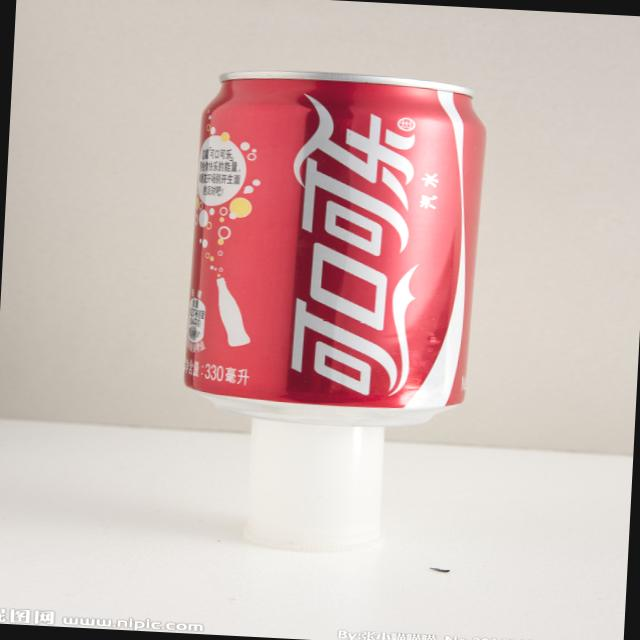can: (174, 61, 497, 437)
